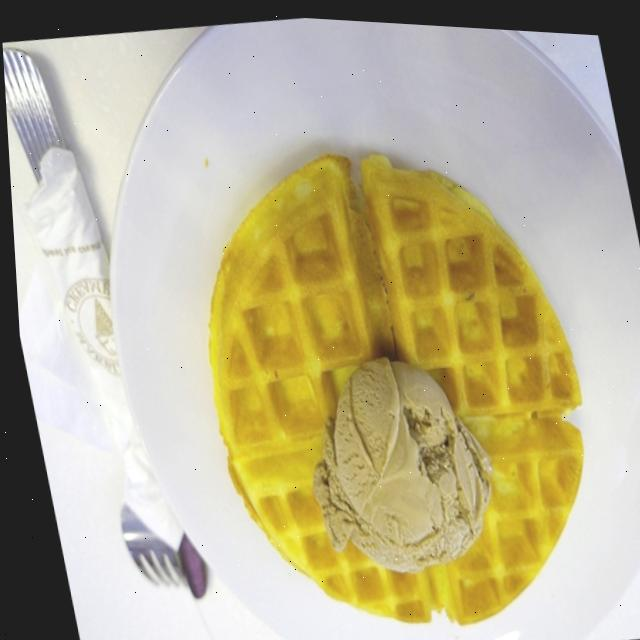炸货点心: (33, 2, 640, 640)
蛋糕甜品: (33, 2, 640, 640)
